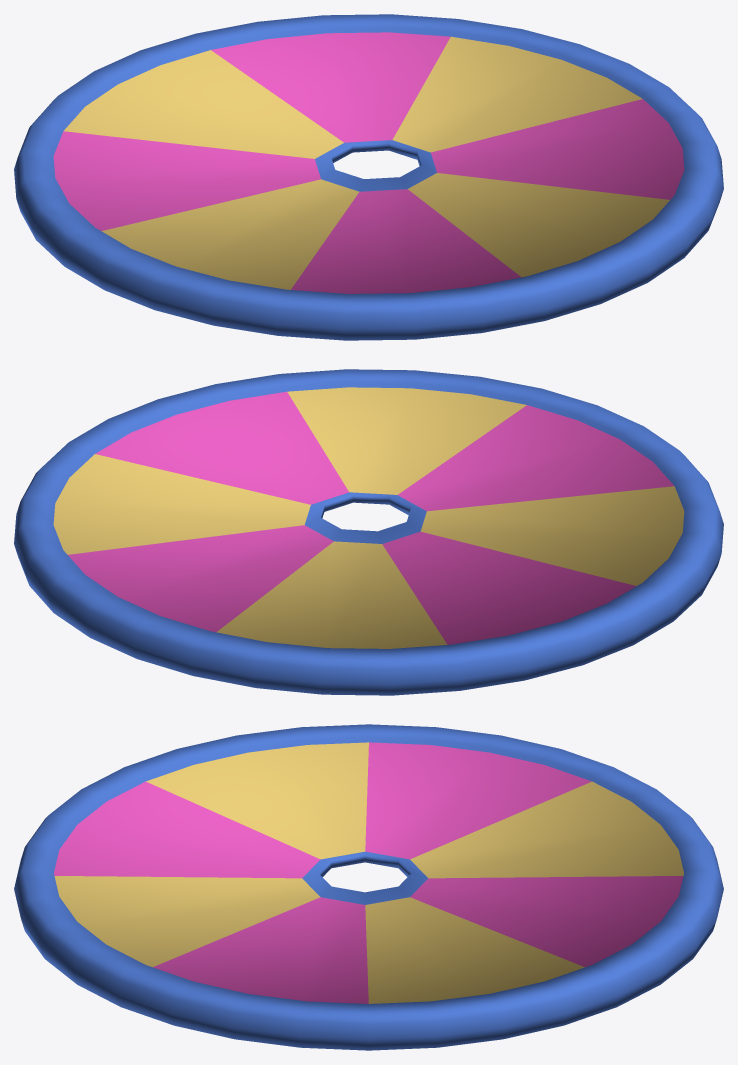
File: Spinner.fbx
3 renders of one model, top to bottom at view 1: azimuth 30°, elevation 25°; view 2: azimuth 150°, elevation 25°; view 3: azimuth 270°, elevation 25°, orthographic.
Parts seen in each view (by area): view 1: Cylinder; view 2: Cylinder; view 3: Cylinder.
Part boxes in pixels (x1=…): Cylinder: x1=14, y1=14, x2=723, y2=340; Cylinder: x1=14, y1=369, x2=723, y2=695; Cylinder: x1=14, y1=724, x2=723, y2=1050.
Bounding box in the file's own units: 607 × 30.81 × 607.
